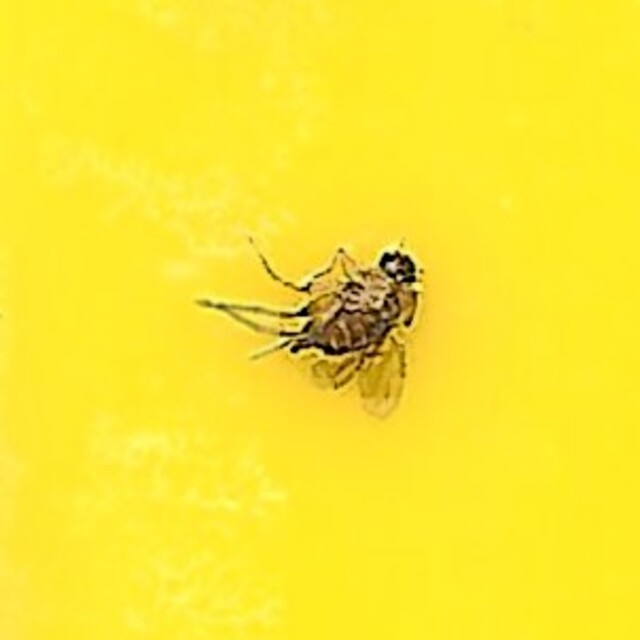Brachycera: (212, 228, 428, 412)
